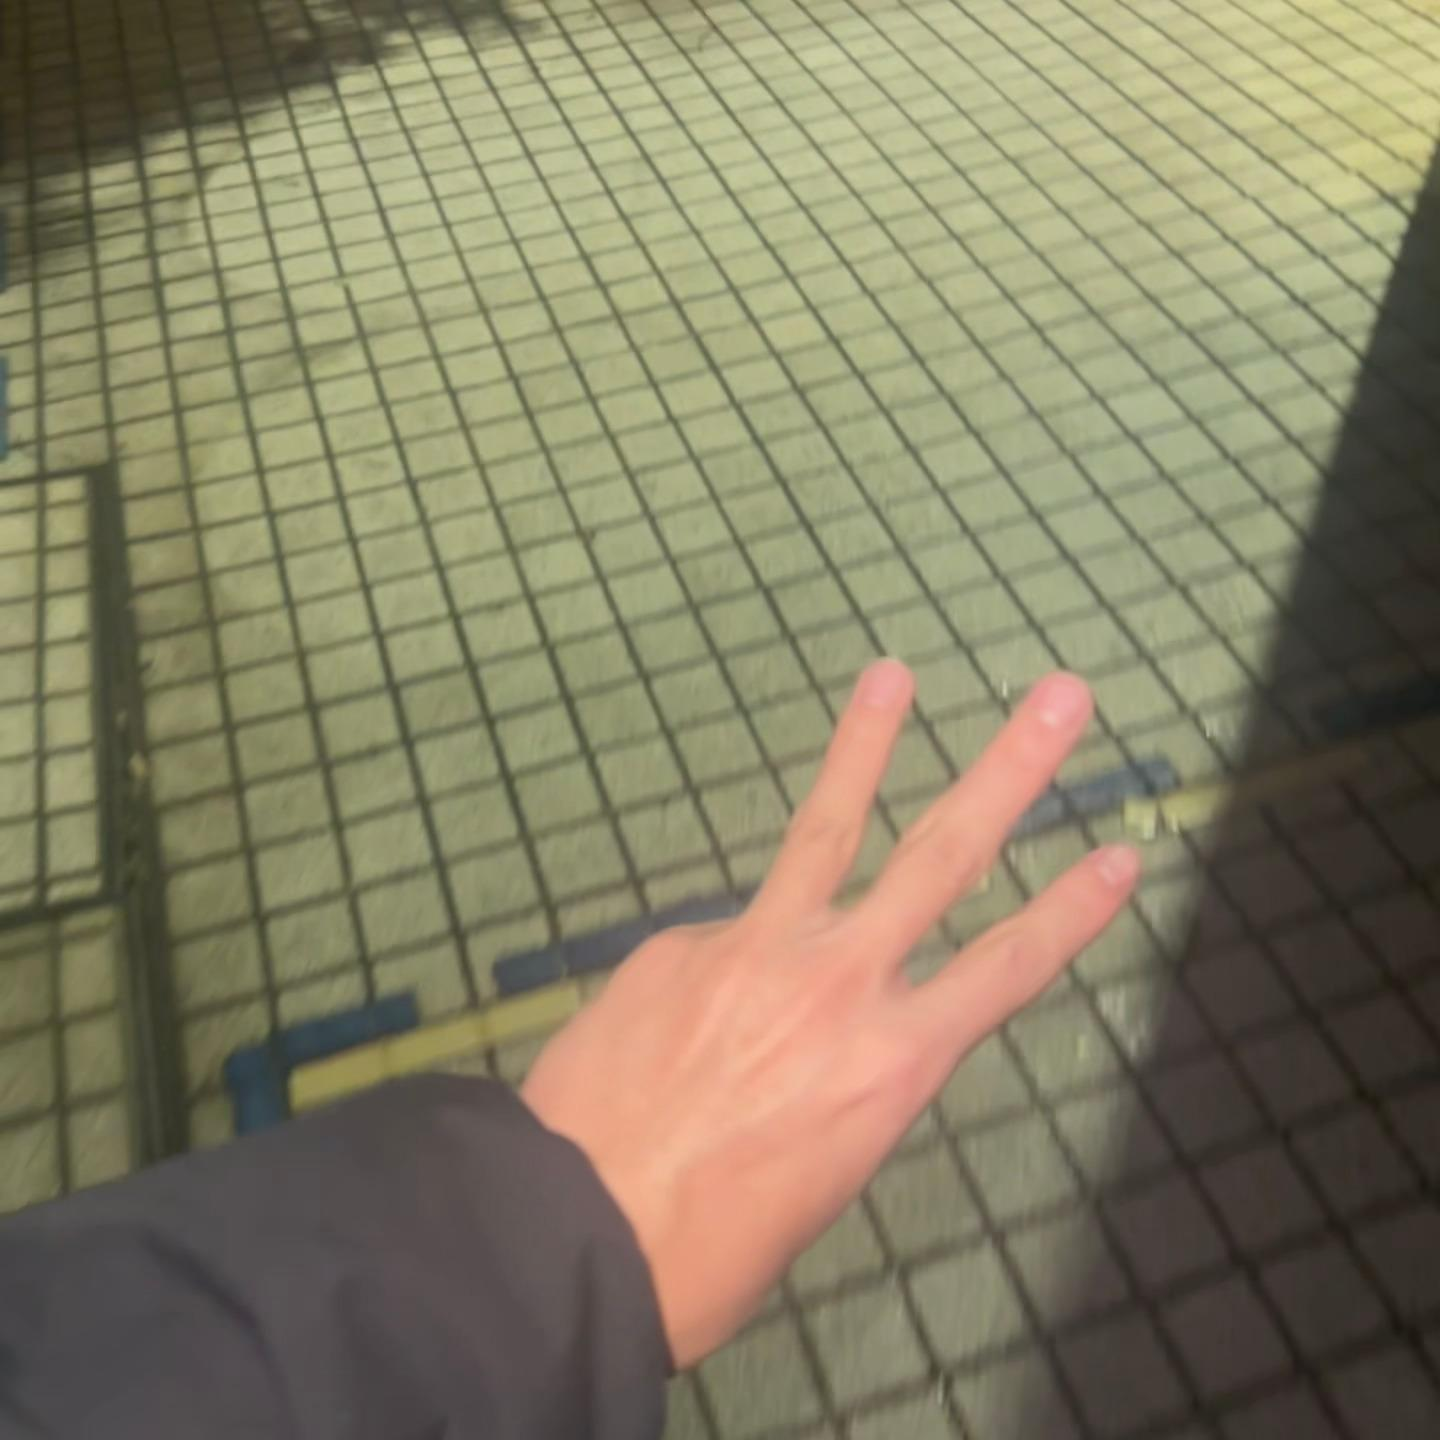without_gloves: (605, 505, 1305, 1290)
